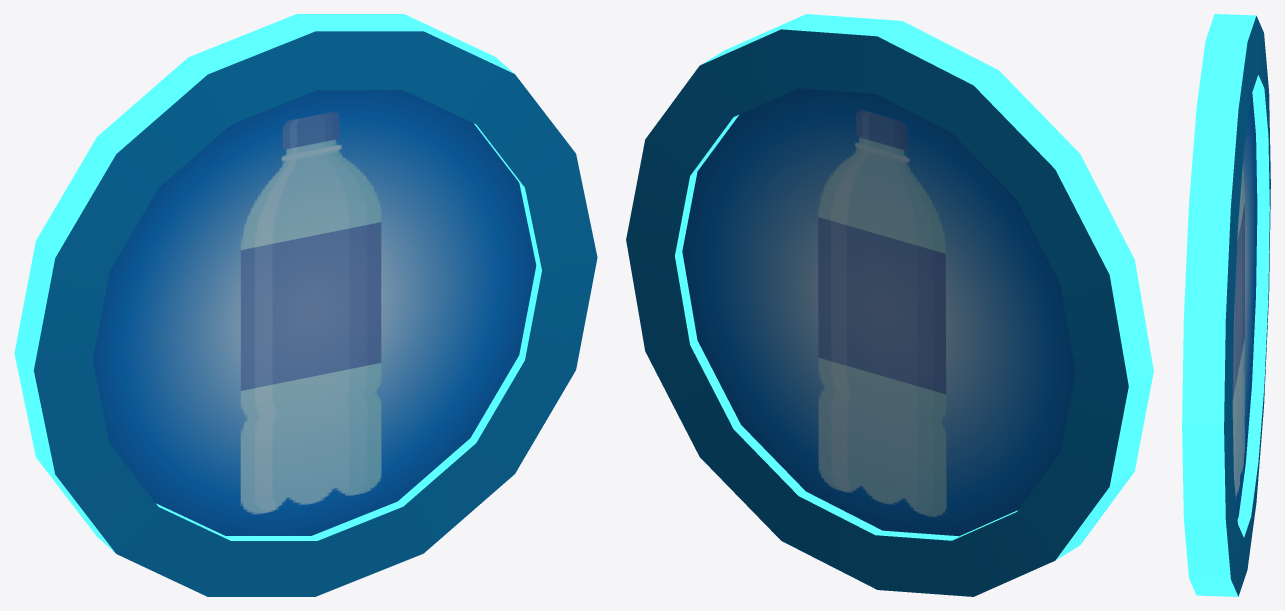
The model's file is bottle_anim.glb.
3 views of the same model, side by side, from view 1: azimuth 30°, elevation 25°; view 2: azimuth 150°, elevation 25°; view 3: azimuth 270°, elevation 25° (orthographic). The views are drawn at different scales.
Parts seen in each view (by area): view 1: bitcoin; view 2: bitcoin; view 3: bitcoin.
Boxes of the visible parts, x1=… form: bitcoin: x1=14, y1=14, x2=597, y2=596; bitcoin: x1=626, y1=14, x2=1153, y2=596; bitcoin: x1=1182, y1=14, x2=1270, y2=596.
Bounding box in the file's own units: 0.8537 × 0.8515 × 0.1299.
Materials: 3 (3 with a texture image).
